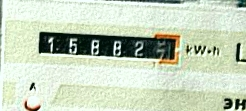1: (45, 34, 56, 53)
2: (133, 39, 145, 58)
5: (67, 37, 79, 54)
7: (154, 47, 166, 59)
8: (88, 37, 101, 55), (111, 38, 123, 57)
screen: (29, 20, 187, 73)
